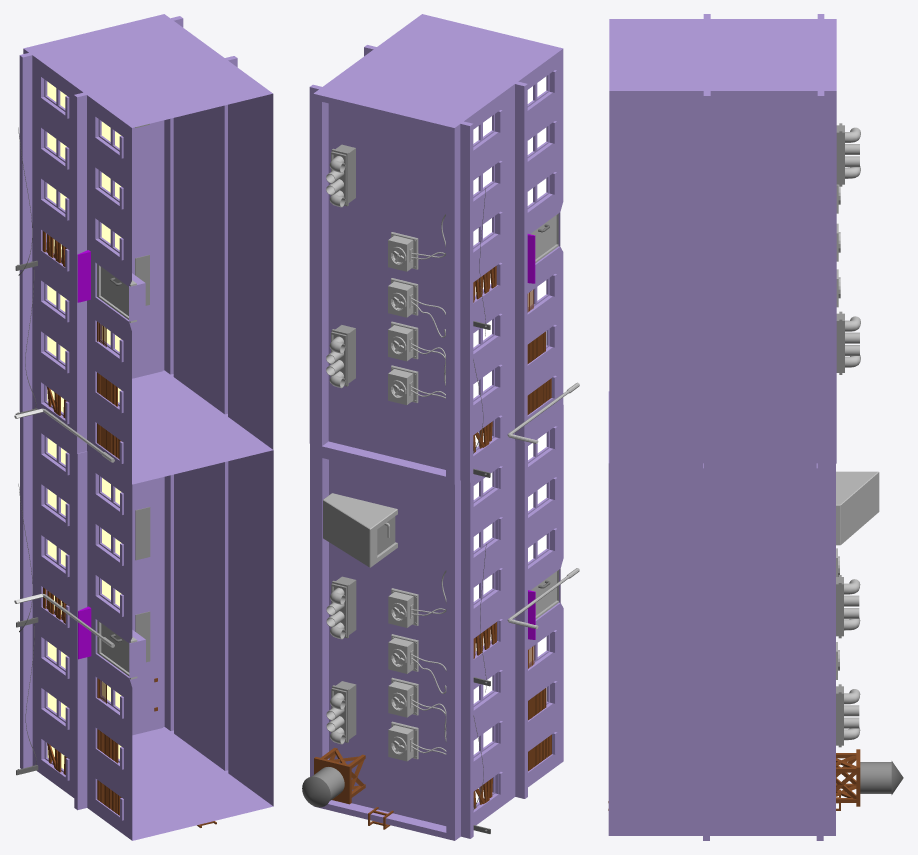
Rendered from building.fbx.
3 views of the same model, side by side, from view 1: azimuth 30°, elevation 25°; view 2: azimuth 150°, elevation 25°; view 3: azimuth 270°, elevation 25° (orthographic). The views are drawn at different scales.
Parts seen in each view (by area): view 1: Cone; view 2: Cone; view 3: Cone.
Part boxes in pixels (bbox=[...]): Cone: bbox=[14, 14, 273, 840]; Cone: bbox=[302, 14, 579, 840]; Cone: bbox=[608, 14, 903, 840].
Bounding box in the file's own units: 15.39 × 53.76 × 19.22.
